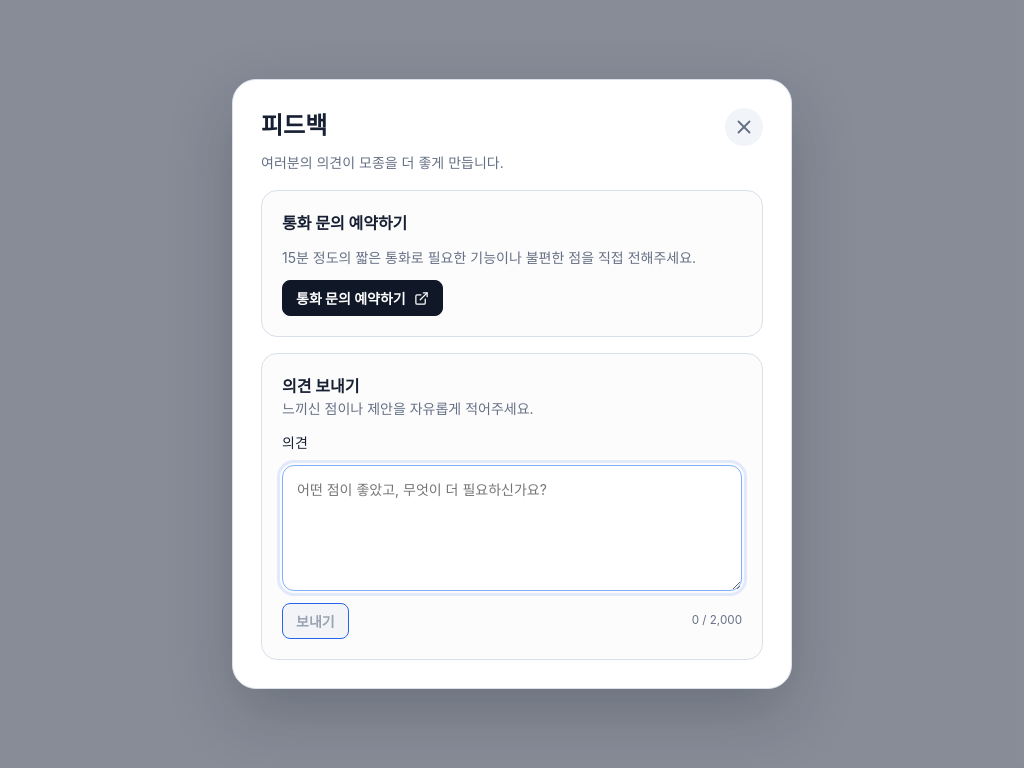
Test: FeedbackDialog › sends feedback and clears the opinion after success
expect the heading "통화 문의 예약하기" is shown: met, box [282, 213, 407, 233]
Type "결과 미리보기를 개선해 주세요." into the text box labelled "의견".
click(512, 528); type("결과 미리보기를 개선해 주세요.")  # box [282, 465, 742, 591]
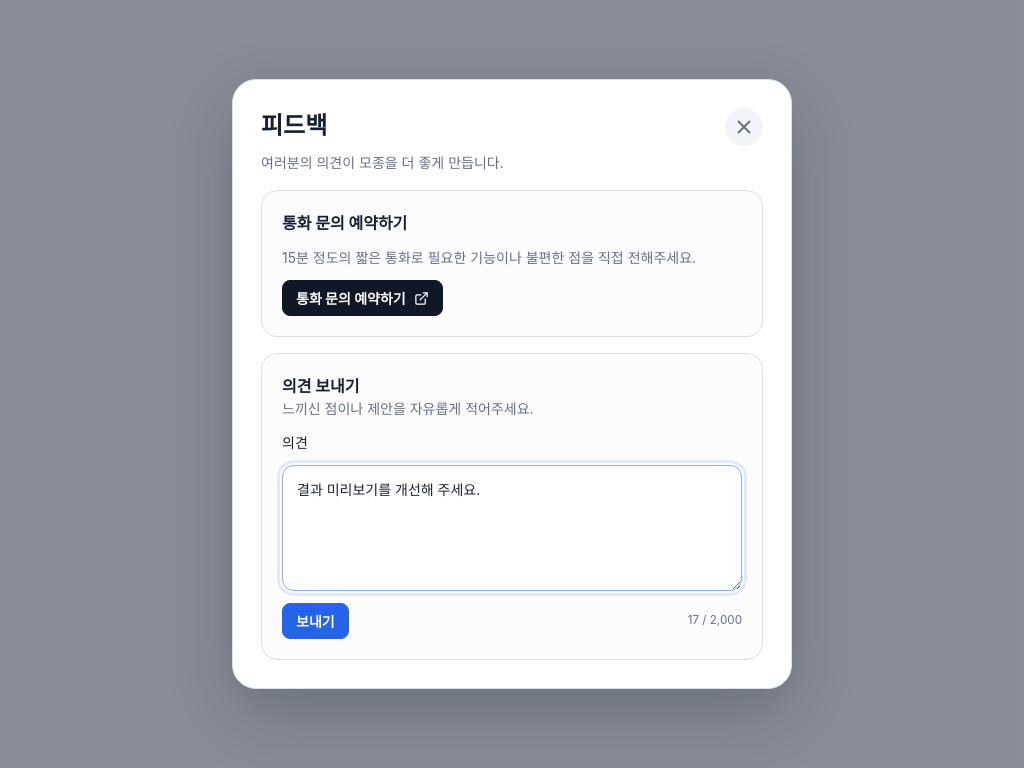
Click the button "보내기".
click(315, 621)  # box [282, 603, 349, 639]
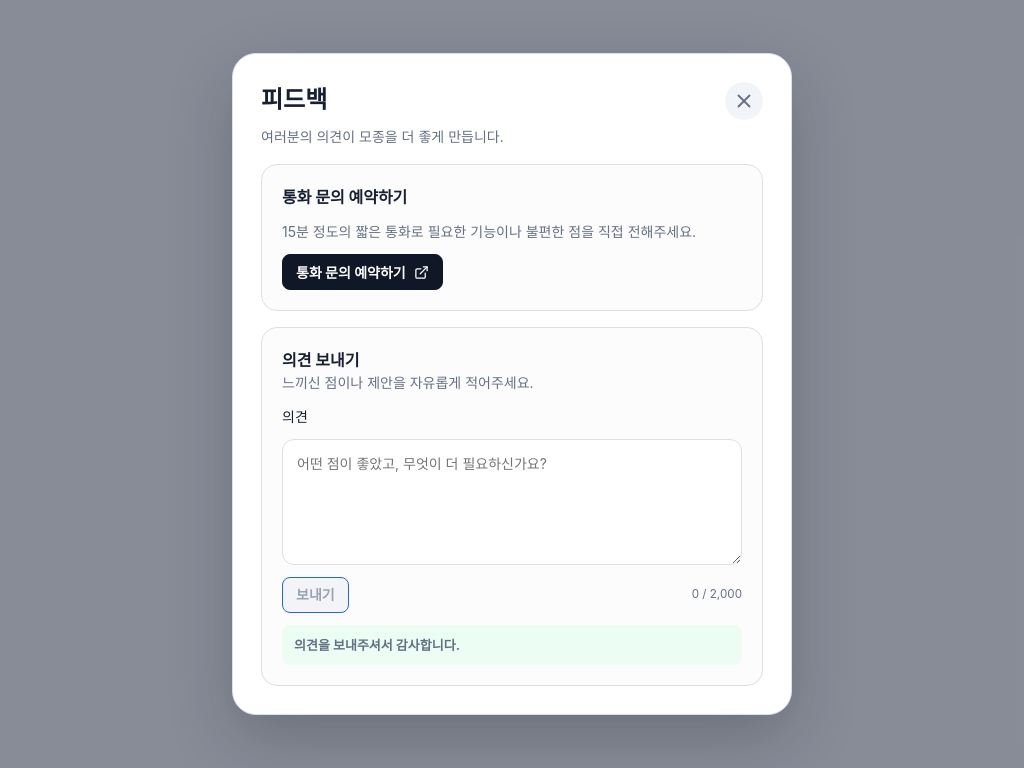
expect the message reads "의견을 보내주셔서 감사합니다.": met, box [294, 637, 460, 653]
expect the text box labelled "의견" is empty: met, box [282, 439, 742, 565]
